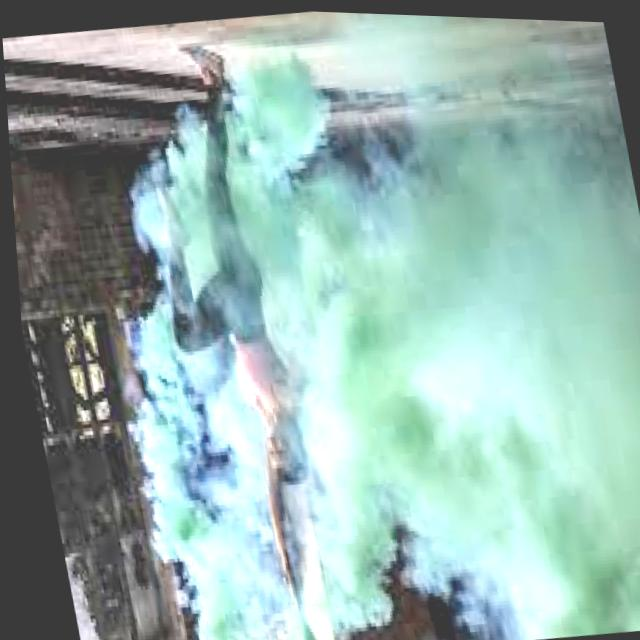Smoke: (250, 66, 640, 640)
